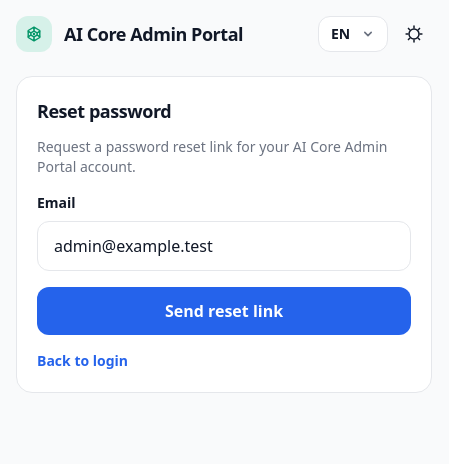
PasswordAccessPages › requests password reset with remembered email and current locale
Check: the field labelled "Email" holds "admin@example.test", box [37,221,411,271]
Click the button "Send reset link".
click(224, 311)  # box [37,287,411,335]
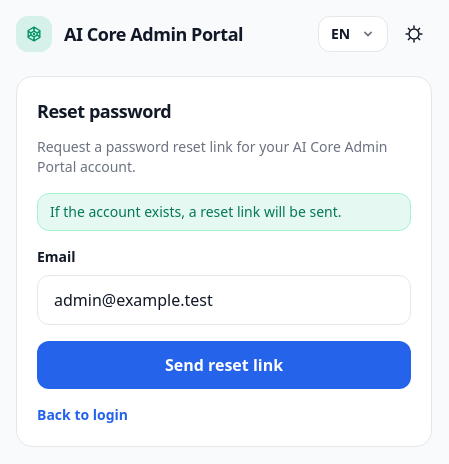
Check: the text "If the account exists, a reset link will be sent." is shown, box [37,193,411,231]
